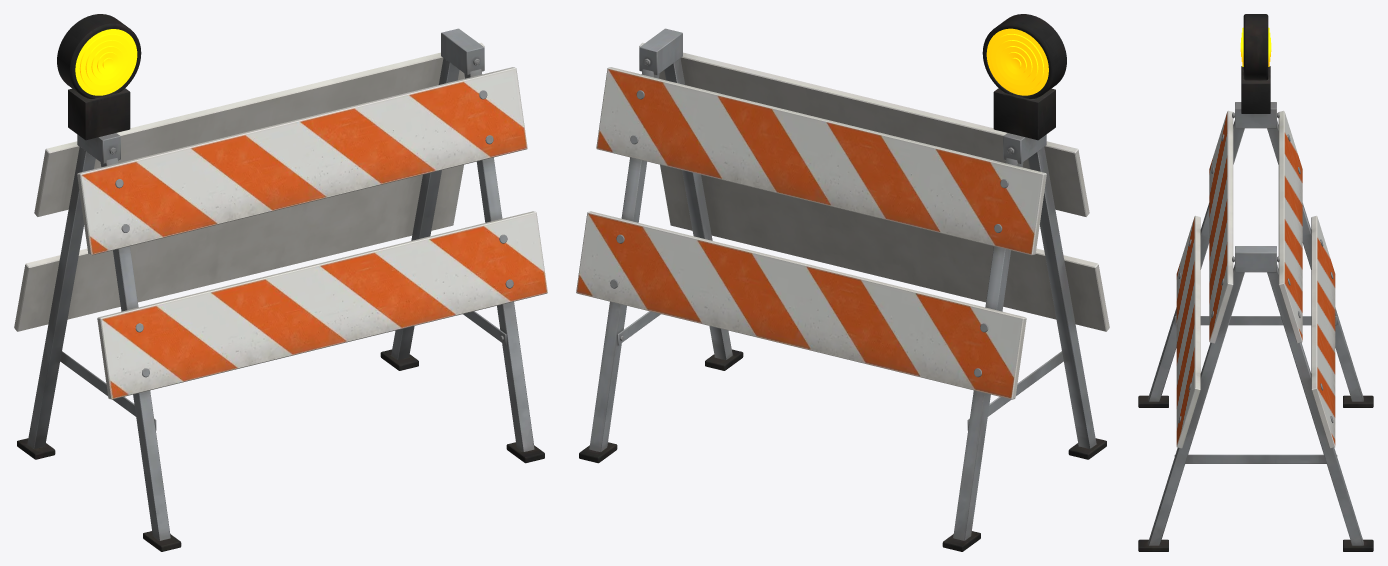
Rendered from barricade.glb.
The picture shows the model from 3 angles, left to right: view 1: azimuth 30°, elevation 25°; view 2: azimuth 150°, elevation 25°; view 3: azimuth 270°, elevation 25°; orthographic projection. The views are drawn at different scales.
Parts seen in each view (by area): view 1: construction-barricade_body, construction-barricade_lamp_lens; view 2: construction-barricade_body, construction-barricade_lamp_lens; view 3: construction-barricade_body.
Part boxes in pixels (x1,y1,x2,y2): construction-barricade_body: (14,14,547,551); construction-barricade_lamp_lens: (75,29,137,95); construction-barricade_body: (576,14,1109,551); construction-barricade_lamp_lens: (986,28,1048,95); construction-barricade_body: (1138,14,1373,551).
Size of the model in its own units: 1.2 by 1.25 by 0.69.
2 materials, 1 textured.
